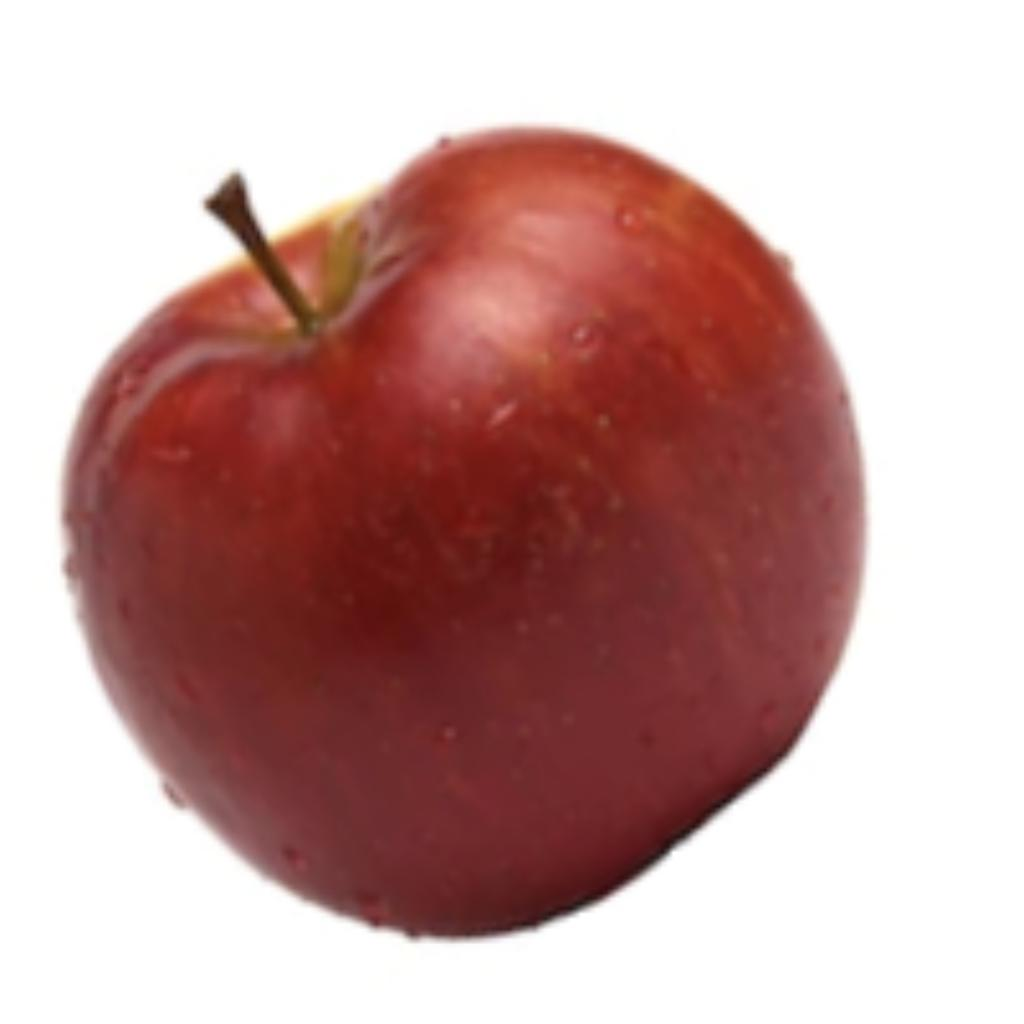apple: (51, 118, 870, 947)
